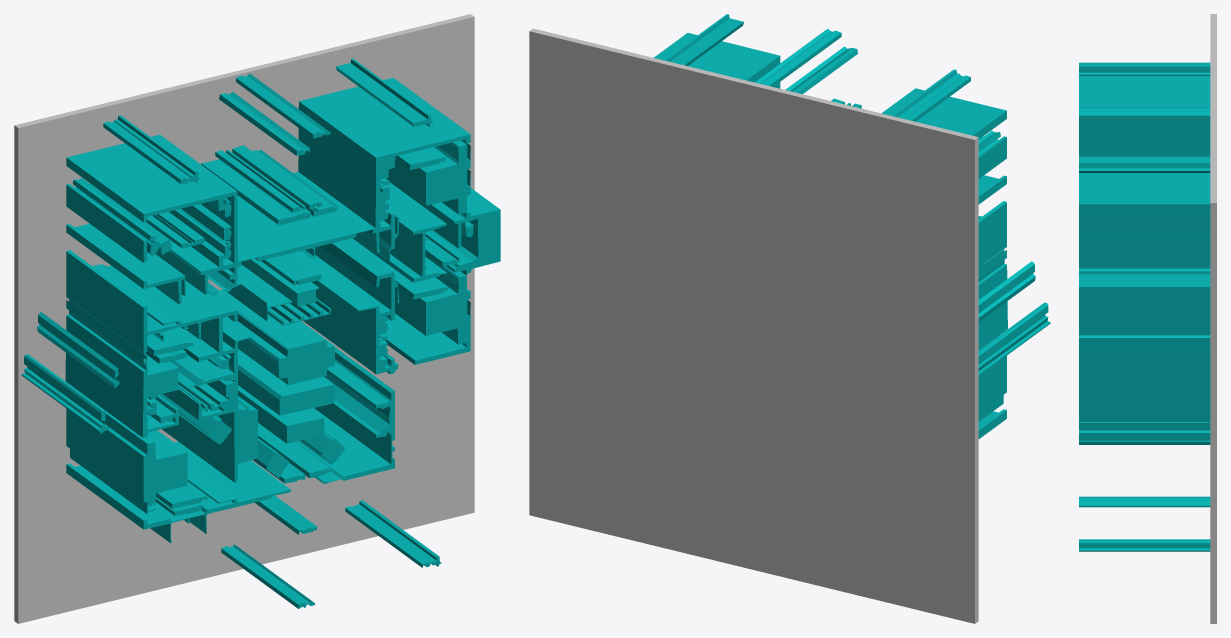
The picture shows the model from 3 angles, left to right: view 1: azimuth 30°, elevation 25°; view 2: azimuth 150°, elevation 25°; view 3: azimuth 270°, elevation 25°; orthographic projection. The views are drawn at different scales.
Parts seen in each view (by area): view 1: world; view 2: world; view 3: world.
Boxes of the visible parts, left/top/right/bottom form: world: left=14, top=14, right=500, bottom=623; world: left=529, top=14, right=1050, bottom=623; world: left=1079, top=14, right=1216, bottom=623.
Bounding box in the file's own units: 10.23 × 10.62 × 3.15.
